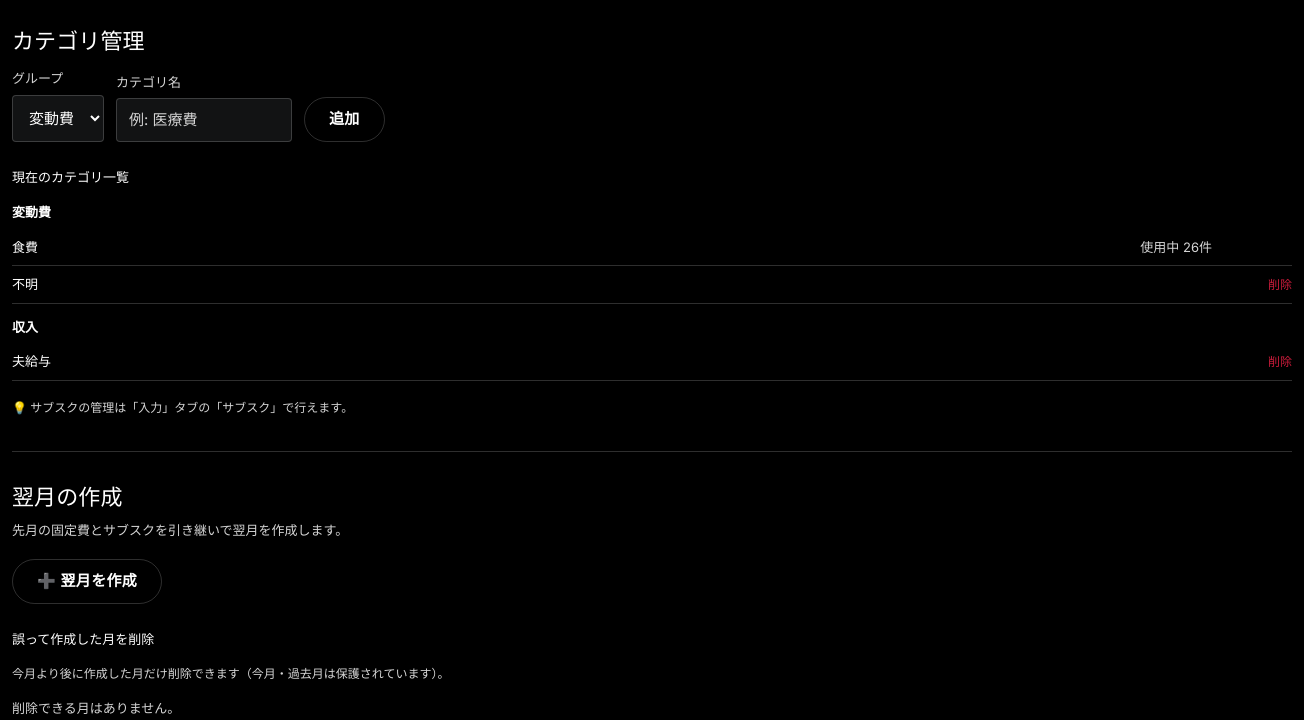
Test: SettingsTab - カテゴリ管理 › サーバーが拒否した場合はエラーメッセージを表示する
(page scrolled)
Click the button "削除" in the row of "夫給与" at coordinates (1280, 362), box [1268, 352, 1292, 372]
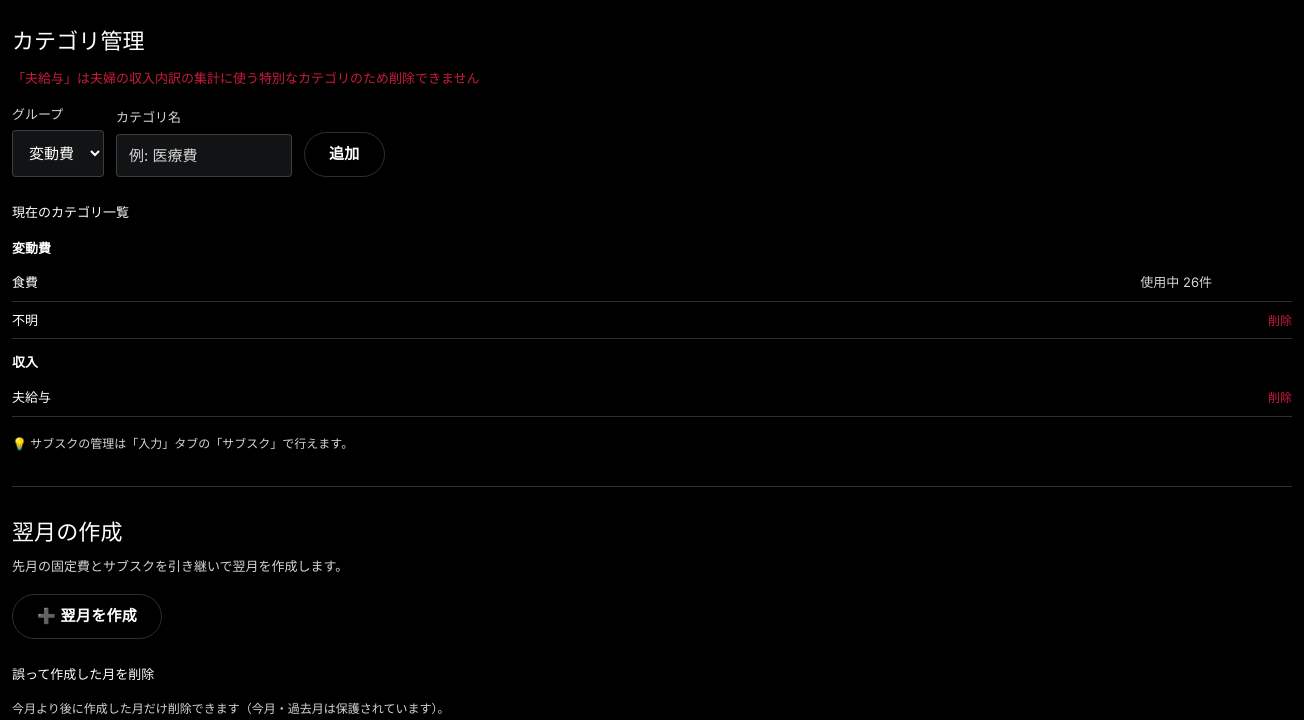
Result: the text "「夫給与」は夫婦の収入内訳の集計に使う特別なカテゴリのため削除できません" is shown at [12, 70, 480, 86]
